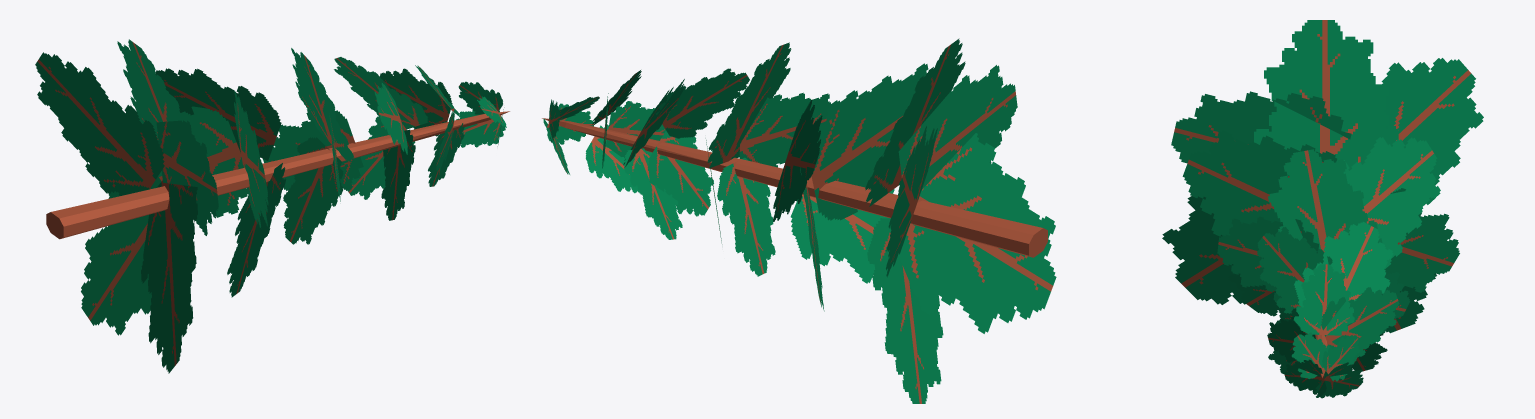
Rendered from tree.gltf.
The picture shows the model from 3 angles, left to right: view 1: azimuth 30°, elevation 25°; view 2: azimuth 150°, elevation 25°; view 3: azimuth 270°, elevation 25°; orthographic projection. The views are drawn at different scales.
Parts seen in each view (by area): view 1: Tree; view 2: Tree; view 3: Tree.
Part boxes in pixels (x1,y1,x2,y2): Tree: [35, 39, 509, 373]; Tree: [542, 38, 1056, 403]; Tree: [1162, 20, 1483, 398].
Bounding box in the file's own units: 2.43 × 1.68 × 1.79.
Materials: 1 (1 with a texture image).
